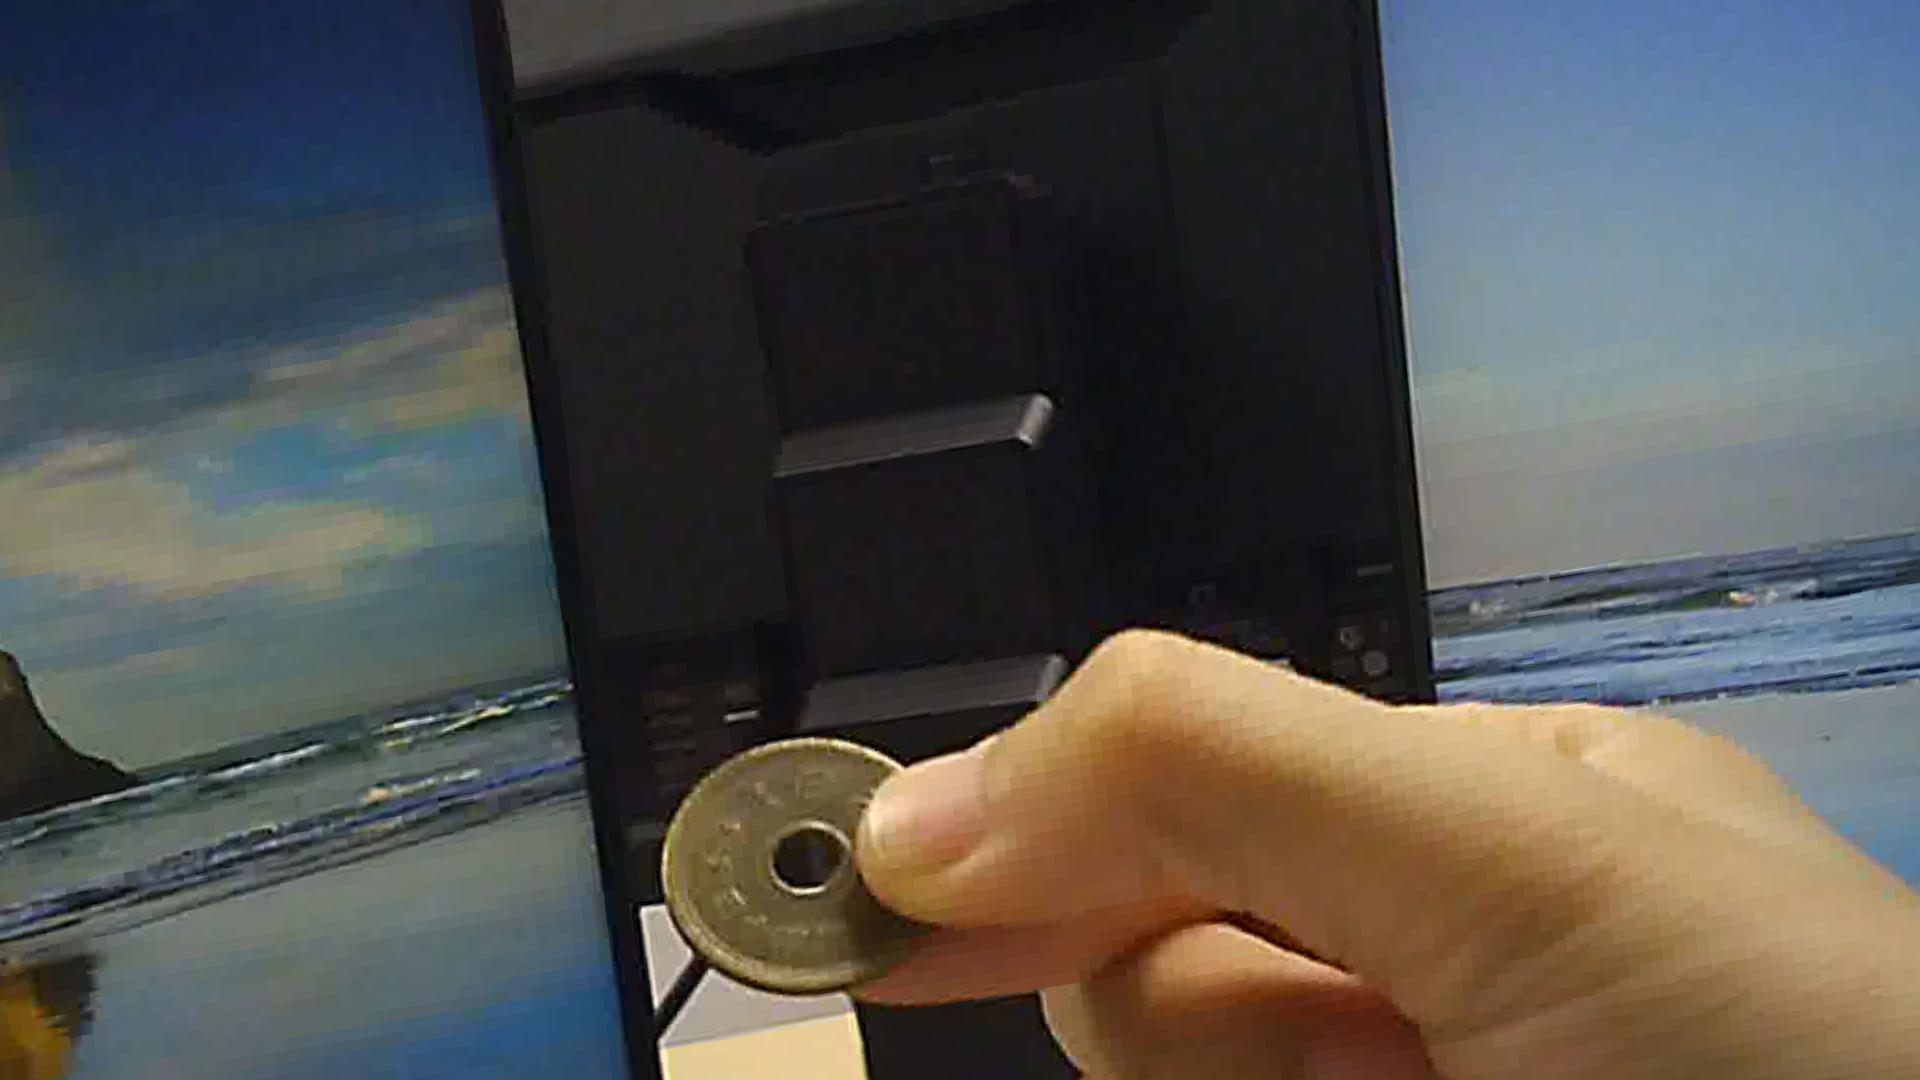5 Yen: (640, 742, 943, 992)
